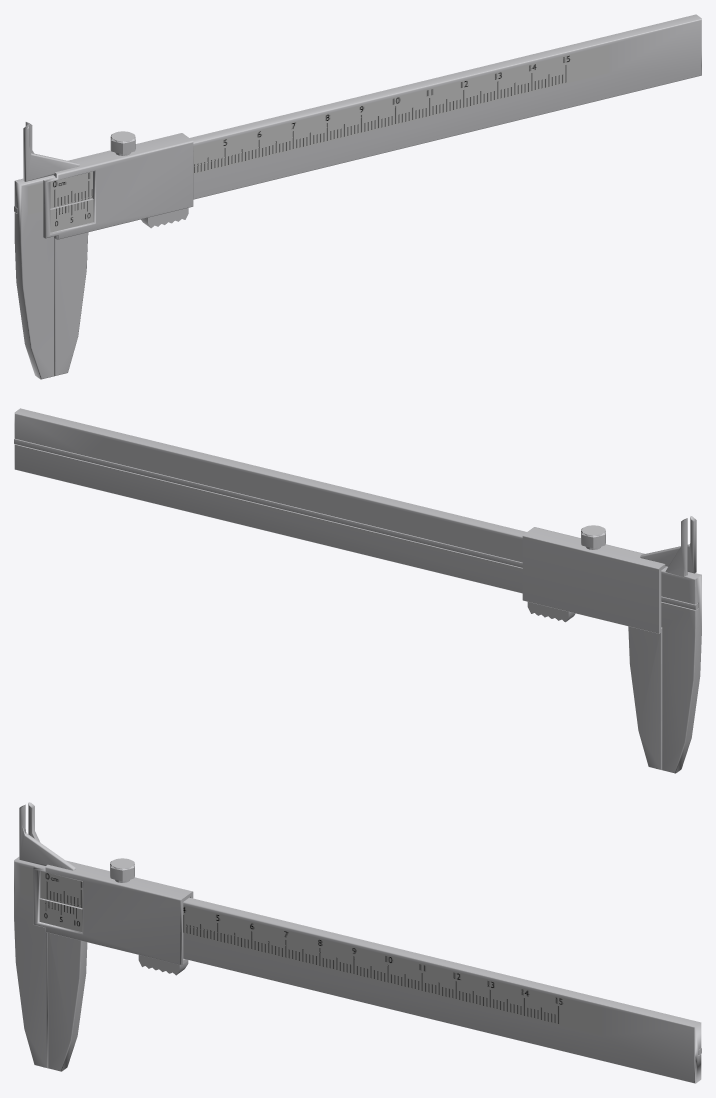
The model's file is VernierCaliper_Azm.fbx.
The picture shows the model from 3 angles, top to bottom: view 1: azimuth 30°, elevation 25°; view 2: azimuth 150°, elevation 25°; view 3: azimuth 330°, elevation 25°; orthographic projection.
Visible parts, largest first — view 1: MainBody_Azm, Slider_Azm, VernierPlate_Azm, LockScrew_Azm; view 2: MainBody_Azm, Slider_Azm, DepthRod_Azm; view 3: MainBody_Azm, Slider_Azm, VernierPlate_Azm, LockScrew_Azm.
Boxes of the visible parts, box(x1,y1,x2,y2) form: MainBody_Azm: box(14, 14, 701, 379); Slider_Azm: box(23, 124, 193, 376); VernierPlate_Azm: box(50, 198, 93, 232); LockScrew_Azm: box(110, 131, 135, 155); MainBody_Azm: box(14, 408, 701, 773); Slider_Azm: box(522, 516, 696, 769); DepthRod_Azm: box(14, 438, 698, 610); MainBody_Azm: box(14, 802, 701, 1083); Slider_Azm: box(19, 804, 193, 1071); VernierPlate_Azm: box(39, 898, 82, 932); LockScrew_Azm: box(110, 858, 134, 882).
Size of the model in its own units: 0.2 by 0.072 by 0.0064.
Materials: 2 (1 with a texture image).
